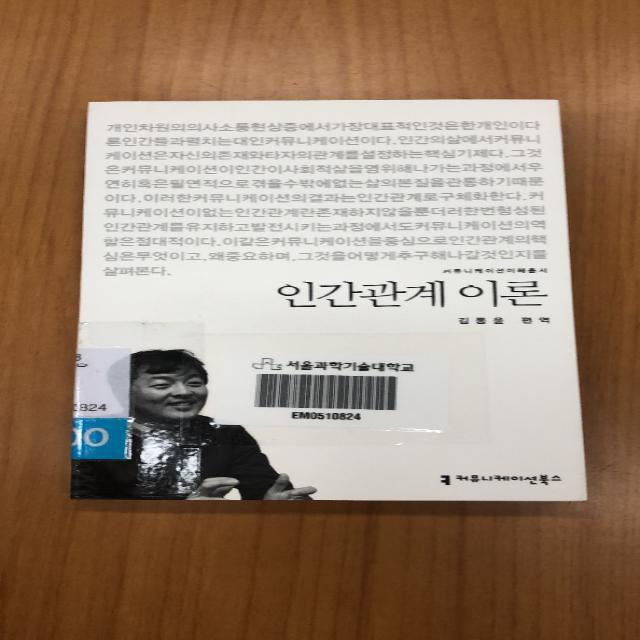Wornout: (219, 347, 448, 434)
